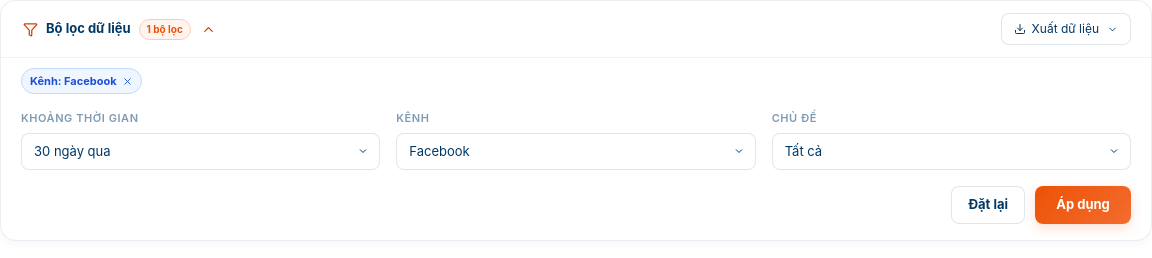
FilterPanel › resets all filters and can collapse the field region
Click the button "Đặt lại". click: [988, 205]
box: top-left (951, 186), bottom-right (1025, 224)
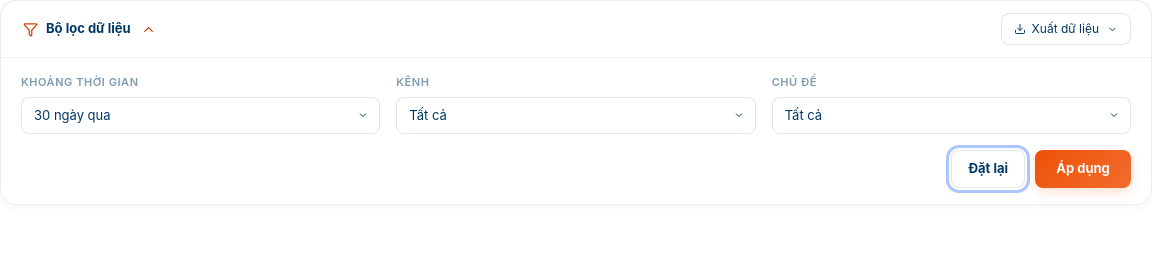
Click the button "Bộ lọc dữ liệu Xuất dữ liệu". click: [88, 28]
box: top-left (1, 1), bottom-right (1151, 58)
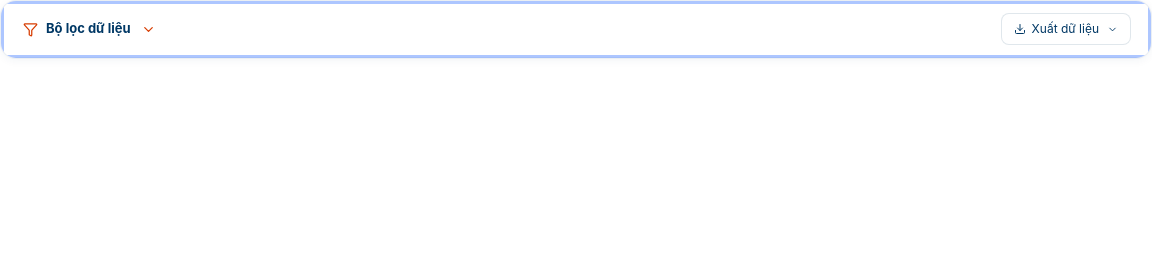
Expected: the label "KHOẢNG THỜI GIAN" is gone
